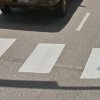crosswalk: (0, 36, 100, 80)
